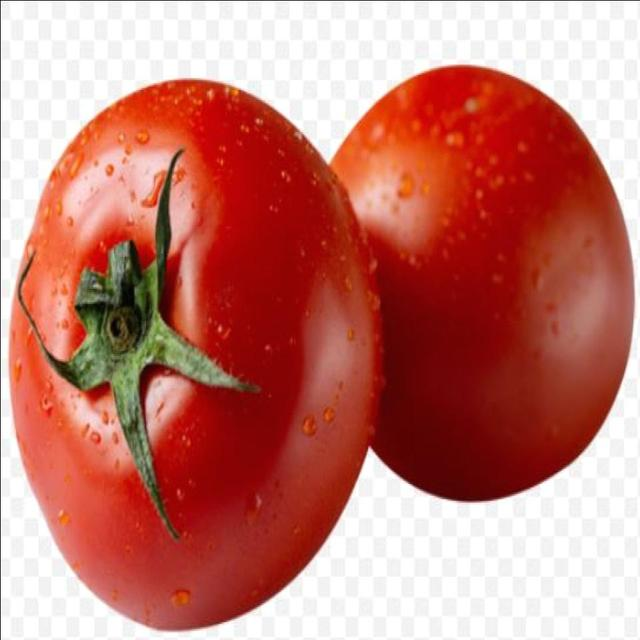Healthy Fruit: (133, 183, 319, 375)
